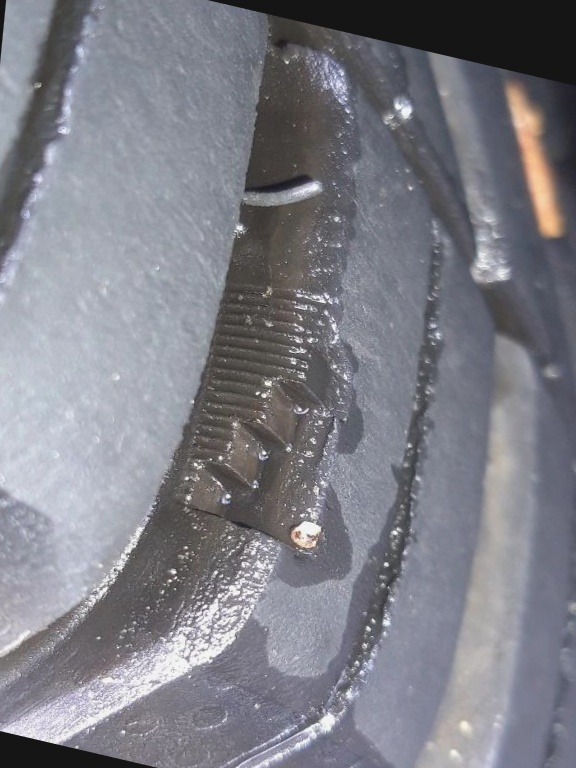temoin:80: (159, 267, 367, 569)
